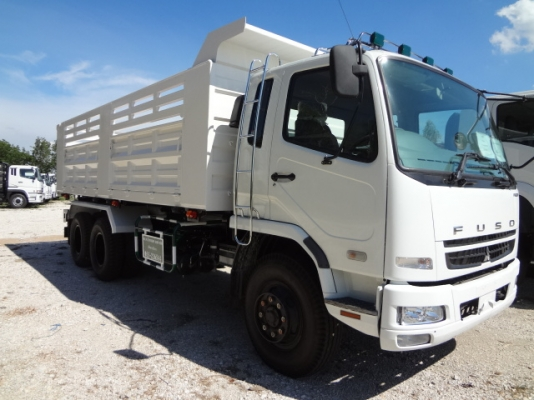truck: (93, 40, 520, 372)
